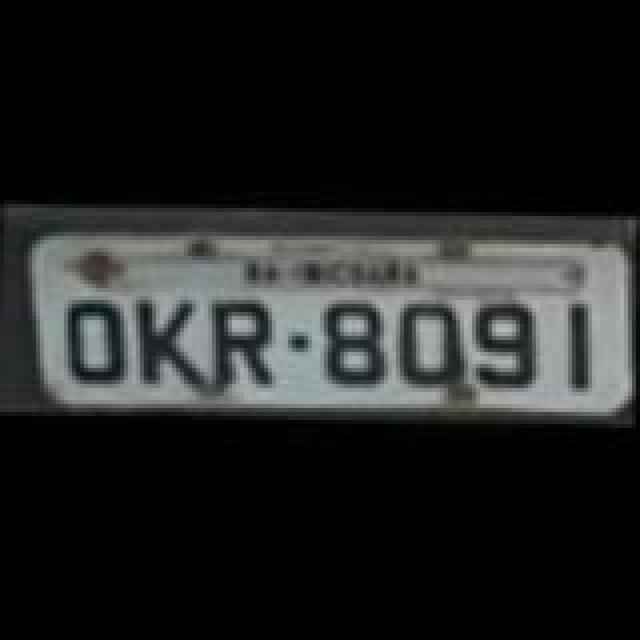1: (560, 304, 604, 396)
8: (320, 298, 396, 398)
9: (476, 304, 544, 396)
K: (132, 294, 216, 394)
O: (394, 296, 466, 392), (58, 290, 130, 386)
R: (208, 296, 284, 392)
